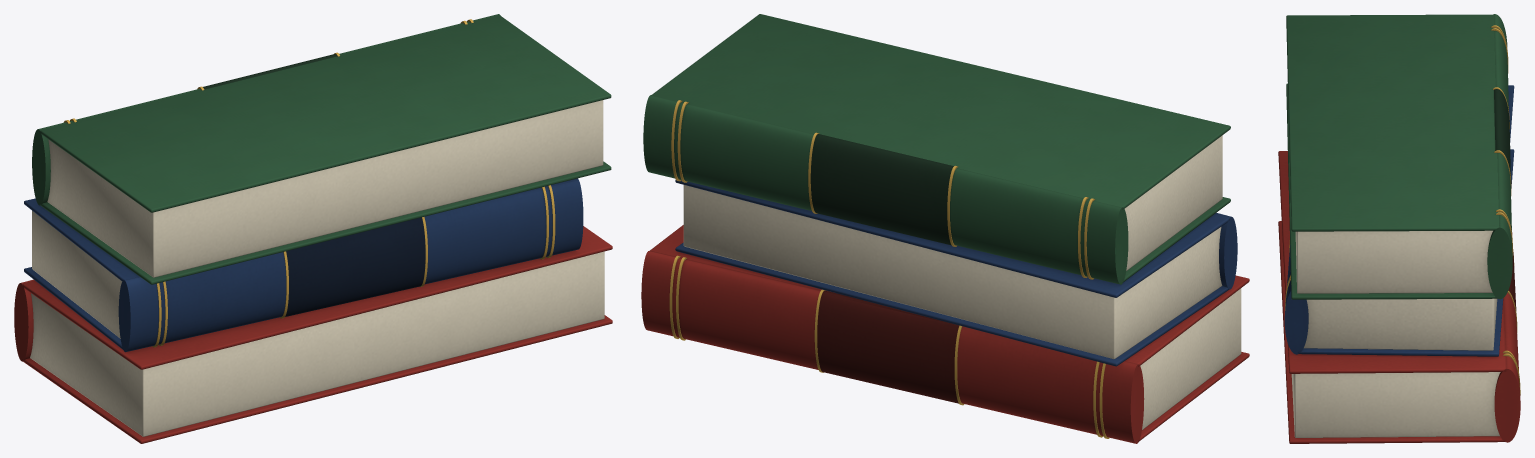
The model's file is piece_books.fbx.
The picture shows the model from 3 angles, left to right: view 1: azimuth 30°, elevation 25°; view 2: azimuth 150°, elevation 25°; view 3: azimuth 270°, elevation 25°; orthographic projection. The views are drawn at different scales.
Visible parts, largest first — view 1: piece_books; view 2: piece_books; view 3: piece_books.
Boxes of the visible parts, x1=… form: piece_books: x1=14, y1=14, x2=612, y2=443; piece_books: x1=641, y1=14, x2=1249, y2=443; piece_books: x1=1278, y1=14, x2=1520, y2=443.
Size of the model in its own units: 0.4662 by 0.2142 by 0.2146.
